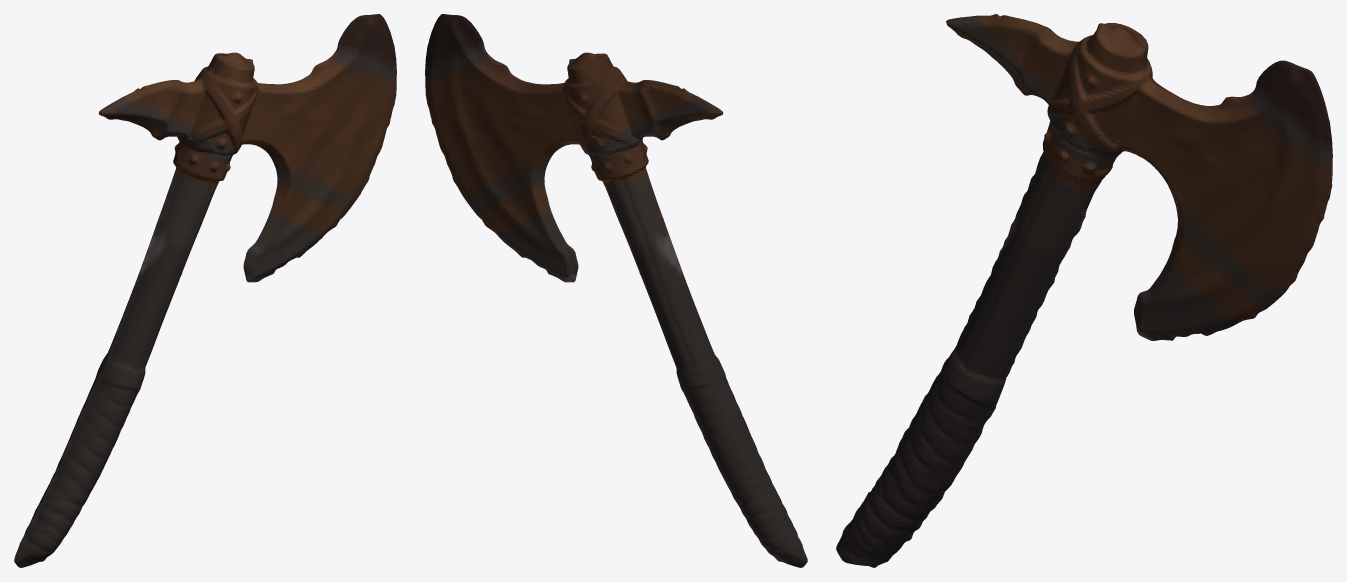
Rendered from machado.glb.
3 views of the same model, side by side, from view 1: azimuth 30°, elevation 25°; view 2: azimuth 150°, elevation 25°; view 3: azimuth 330°, elevation 25° (orthographic). The views are drawn at different scales.
Visible parts, largest first — view 1: tmpu8e75t9f.ply; view 2: tmpu8e75t9f.ply; view 3: tmpu8e75t9f.ply.
Boxes of the visible parts, <box> form: tmpu8e75t9f.ply: <box>14,14,396,567</box>; tmpu8e75t9f.ply: <box>425,14,807,567</box>; tmpu8e75t9f.ply: <box>836,14,1332,567</box>.
Bounding box in the file's own units: 1.67 × 1.96 × 0.2485.
